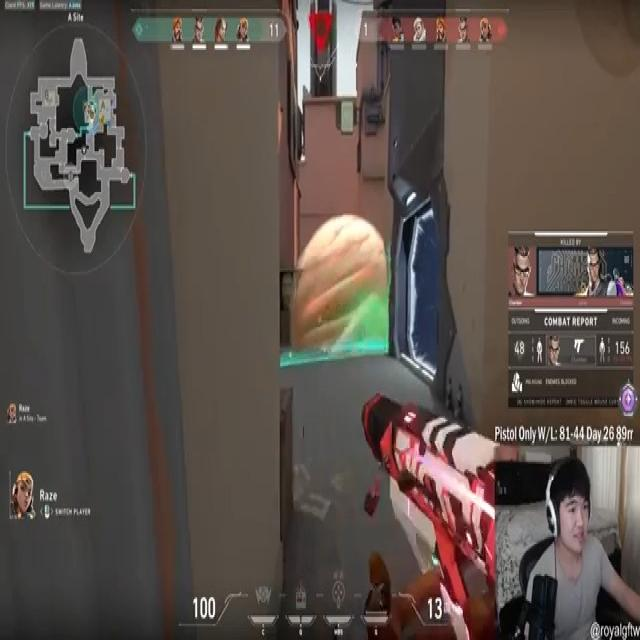smoke: (297, 218, 390, 358)
